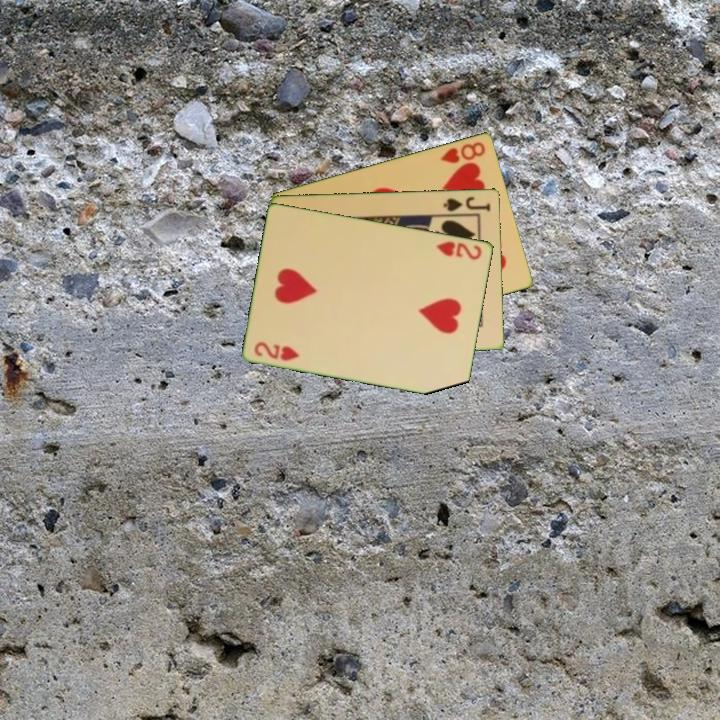2h: (433, 237, 485, 263), (251, 338, 303, 363)
8h: (437, 138, 488, 166)
Js: (440, 193, 494, 214)
